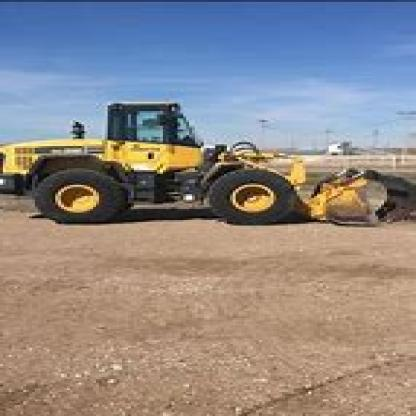bull_dozer/loader/grader: (0, 89, 413, 231)
